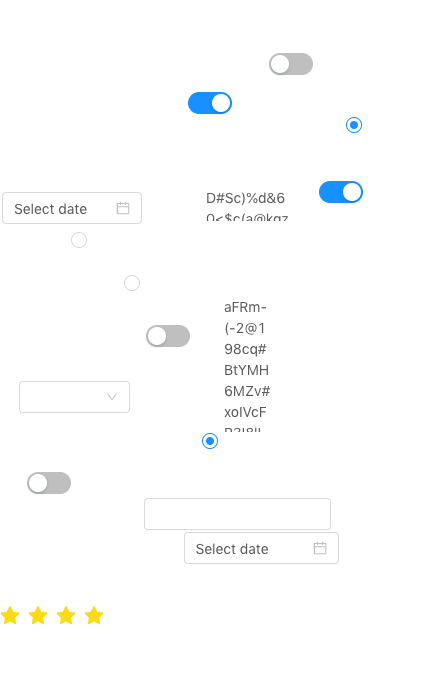DatePicker: (184, 532, 339, 564), (2, 192, 142, 224)
Input: (144, 498, 331, 530)
Radio: (346, 114, 362, 134), (71, 229, 87, 249), (124, 272, 140, 292), (202, 430, 218, 450)
Rate: (0, 599, 120, 631)
Select: (19, 381, 130, 413)
Switch: (27, 471, 71, 495), (188, 91, 232, 115), (269, 52, 313, 76), (319, 180, 363, 204), (146, 324, 190, 348)
Text: (224, 296, 272, 432), (206, 187, 294, 221)
